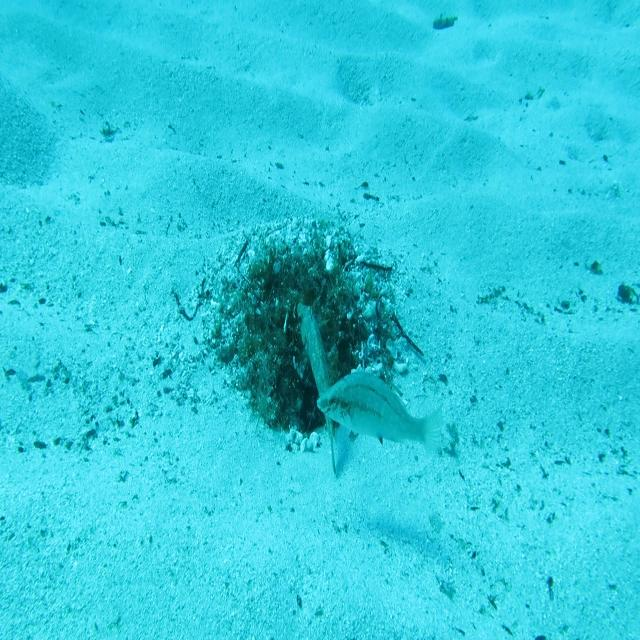FAN: (296, 302, 338, 481)
core_nest: (276, 268, 324, 306)
female: (316, 369, 445, 464)
nest: (190, 213, 412, 465)
vegetation: (433, 13, 459, 32)
